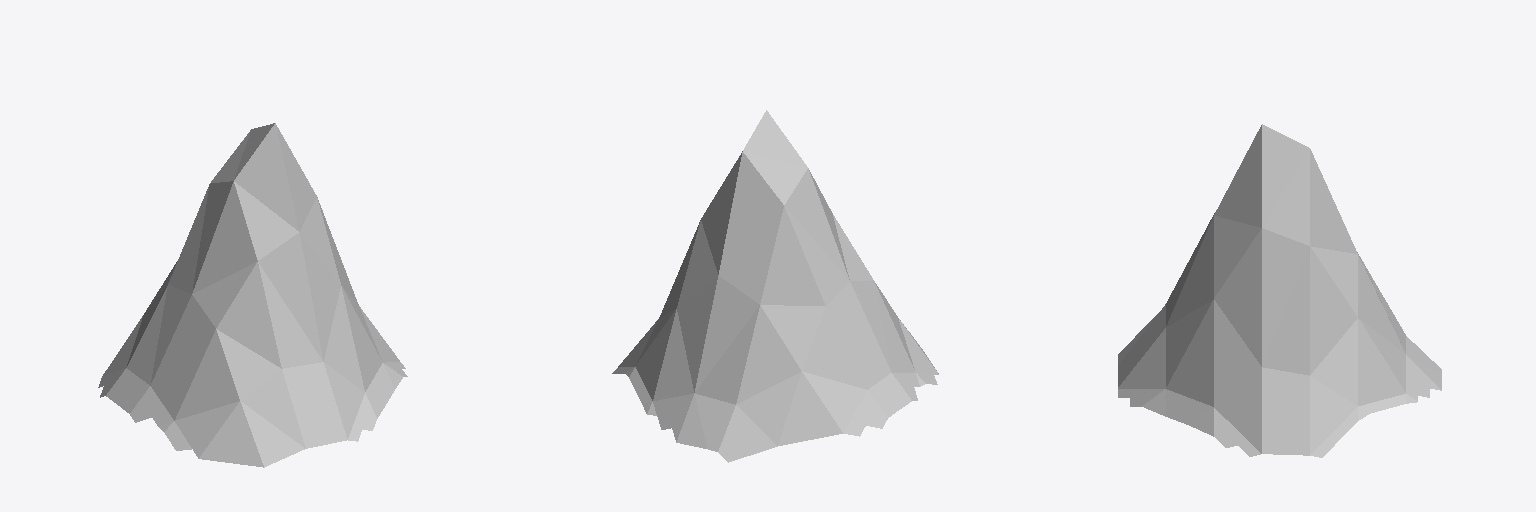
File: tree_30.obj
3 views of the same model, side by side, from view 1: azimuth 30°, elevation 25°; view 2: azimuth 150°, elevation 25°; view 3: azimuth 270°, elevation 25° (orthographic).
Visible parts, largest first — view 1: tree_30.001; view 2: tree_30.001; view 3: tree_30.001.
Boxes of the visible parts, x1=… form: tree_30.001: x1=98, y1=123, x2=407, y2=467; tree_30.001: x1=612, y1=110, x2=938, y2=462; tree_30.001: x1=1118, y1=124, x2=1441, y2=457.
Bounding box in the file's own units: 6.5 × 6.29 × 6.75.